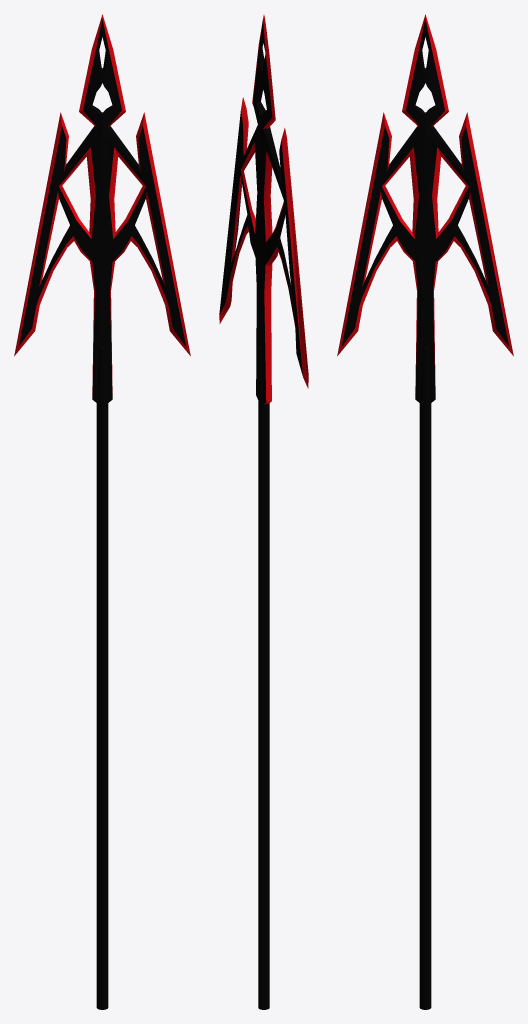
Rendered from SpearModif.fbx.
3 renders of one model, left to right at view 1: azimuth 90°, elevation 25°; view 2: azimuth 210°, elevation 25°; view 3: azimuth 270°, elevation 25°, orthographic.
Visible parts, largest first — view 1: Plane, Cylinder; view 2: Plane, Cylinder; view 3: Plane, Cylinder.
Part boxes in pixels (x1,y1,x2,y2): Plane: [14, 14, 190, 403]; Cylinder: [96, 347, 108, 1009]; Plane: [219, 15, 308, 404]; Cylinder: [258, 345, 269, 1009]; Plane: [337, 14, 513, 403]; Cylinder: [419, 347, 431, 1009].
Size of the model in its own units: 4 by 374 by 60.34.
